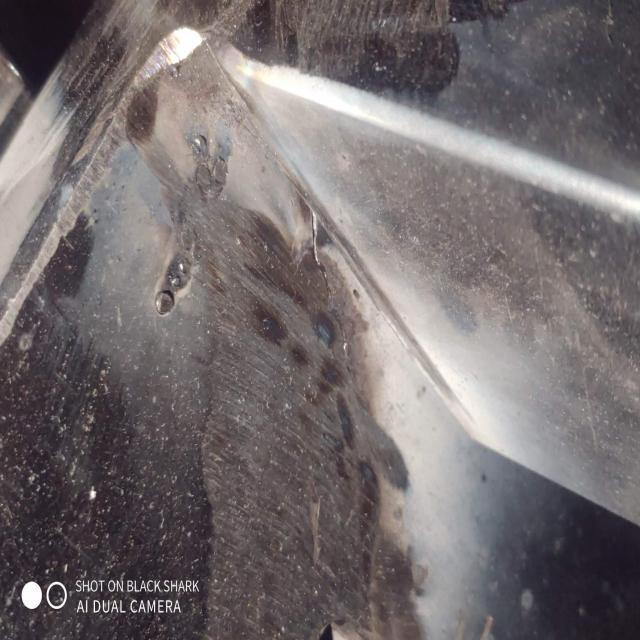Crack: (301, 203, 352, 364)
